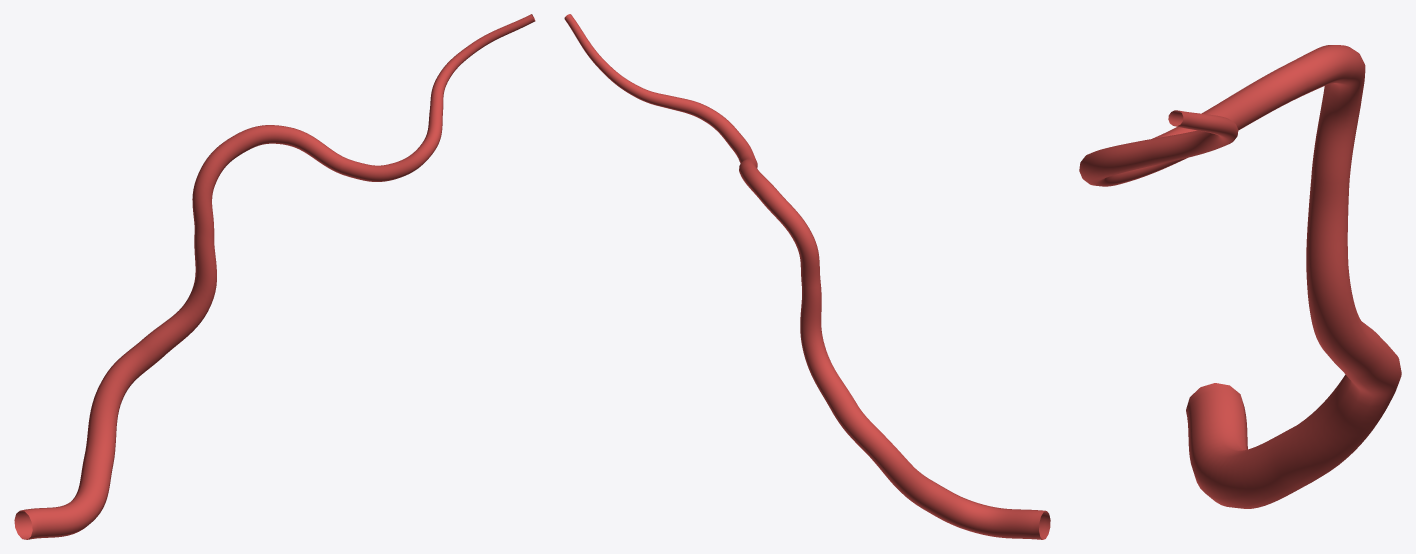
3 renders of one model, left to right at view 1: azimuth 30°, elevation 25°; view 2: azimuth 150°, elevation 25°; view 3: azimuth 270°, elevation 25°, orthographic. The views are drawn at different scales.
Visible parts, largest first — view 1: 左侧小脑下前动脉; view 2: 左侧小脑下前动脉; view 3: 左侧小脑下前动脉.
Part boxes in pixels (x1=…): 左侧小脑下前动脉: x1=14, y1=14, x2=535, y2=539; 左侧小脑下前动脉: x1=564, y1=14, x2=1050, y2=539; 左侧小脑下前动脉: x1=1079, y1=45, x2=1401, y2=508.
Size of the model in its own units: 0.0509 by 0.0403 by 0.0145.
